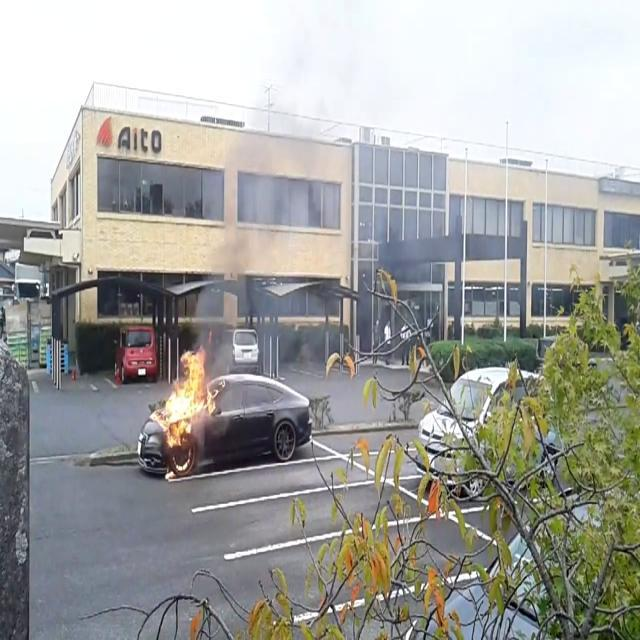Fire: (149, 343, 217, 465)
